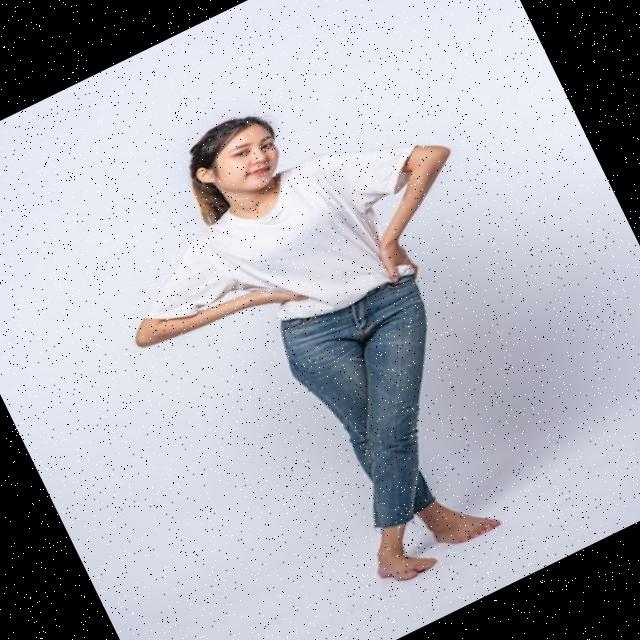Person: (65, 38, 611, 640)
